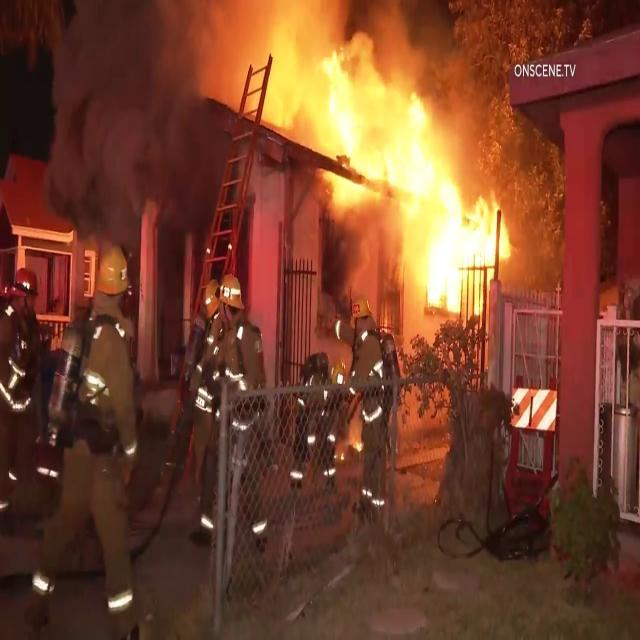Fire: (333, 97, 493, 309)
Smoke: (42, 0, 215, 247)
